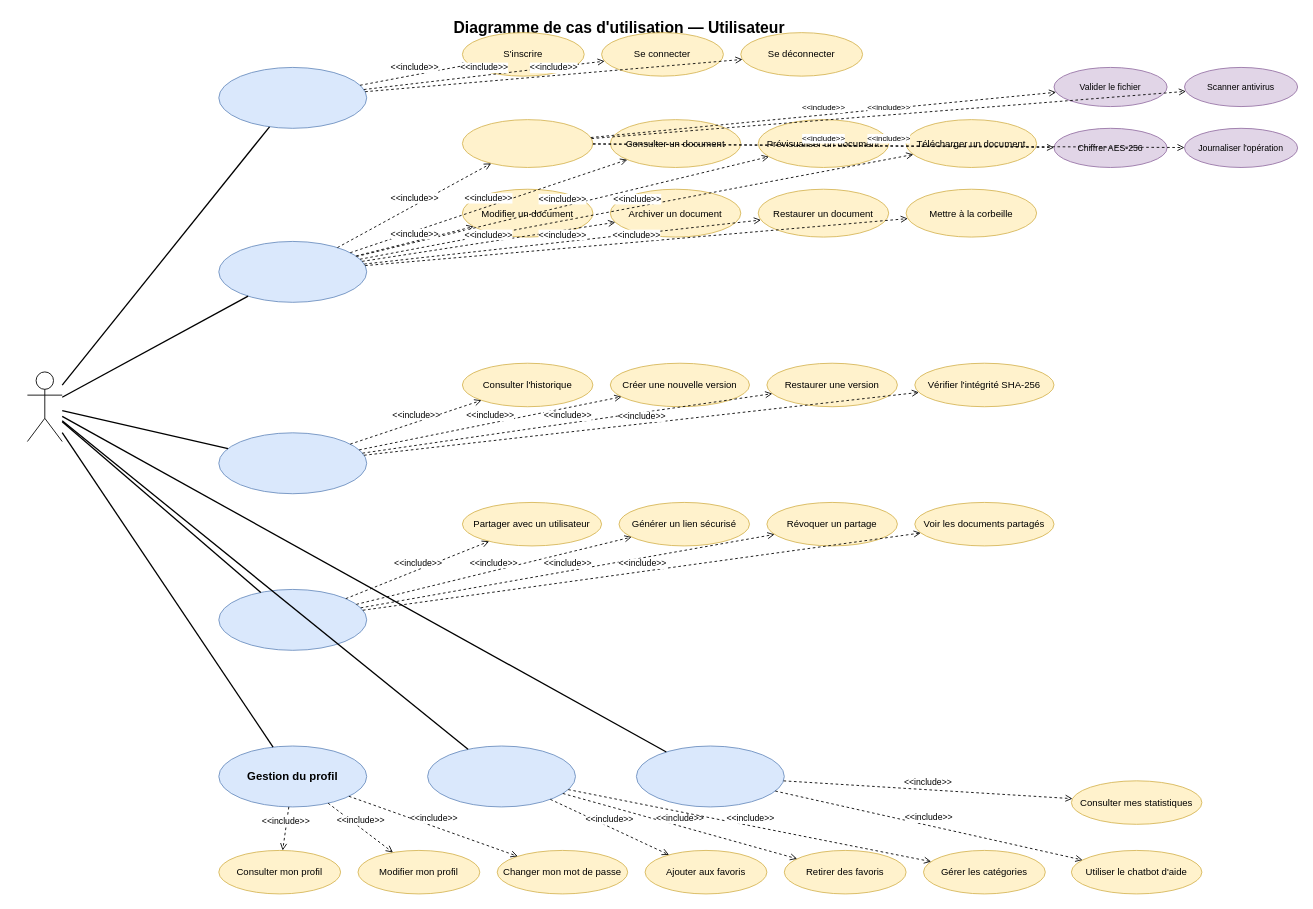
This 1313x909 diagram has some shape labels left out. The centre of each missing label's shape, as x and y in pixels:
Authentification: point (292, 97)
Favoris et catégories: point (501, 776)
Gestion des documents: point (292, 271)
Partage sécurisé: point (292, 619)
Tableau de bord: point (710, 776)
Téléverser un document: point (527, 143)
Utilisateur: point (44, 406)
Versioning: point (292, 463)
